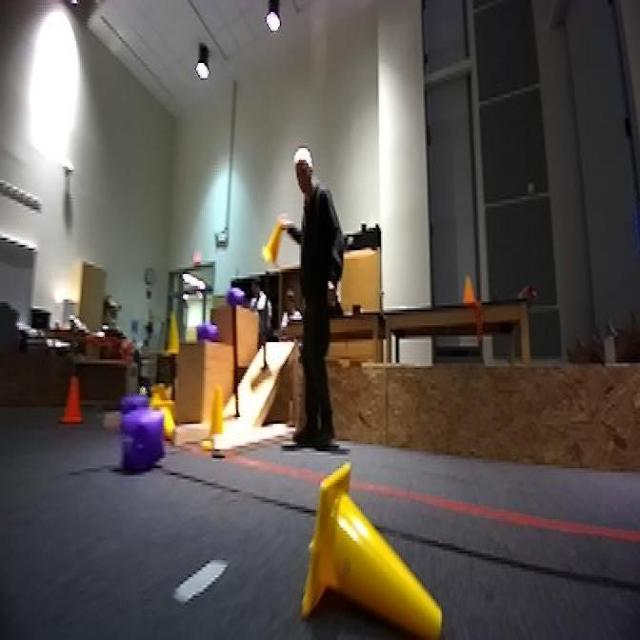frc_cone: (296, 466, 447, 618), (201, 386, 227, 448), (261, 214, 289, 266), (159, 308, 184, 363), (158, 396, 179, 436), (146, 379, 173, 404)
frc_cube: (121, 410, 164, 477), (194, 318, 222, 339), (222, 284, 245, 306), (119, 395, 147, 412)
